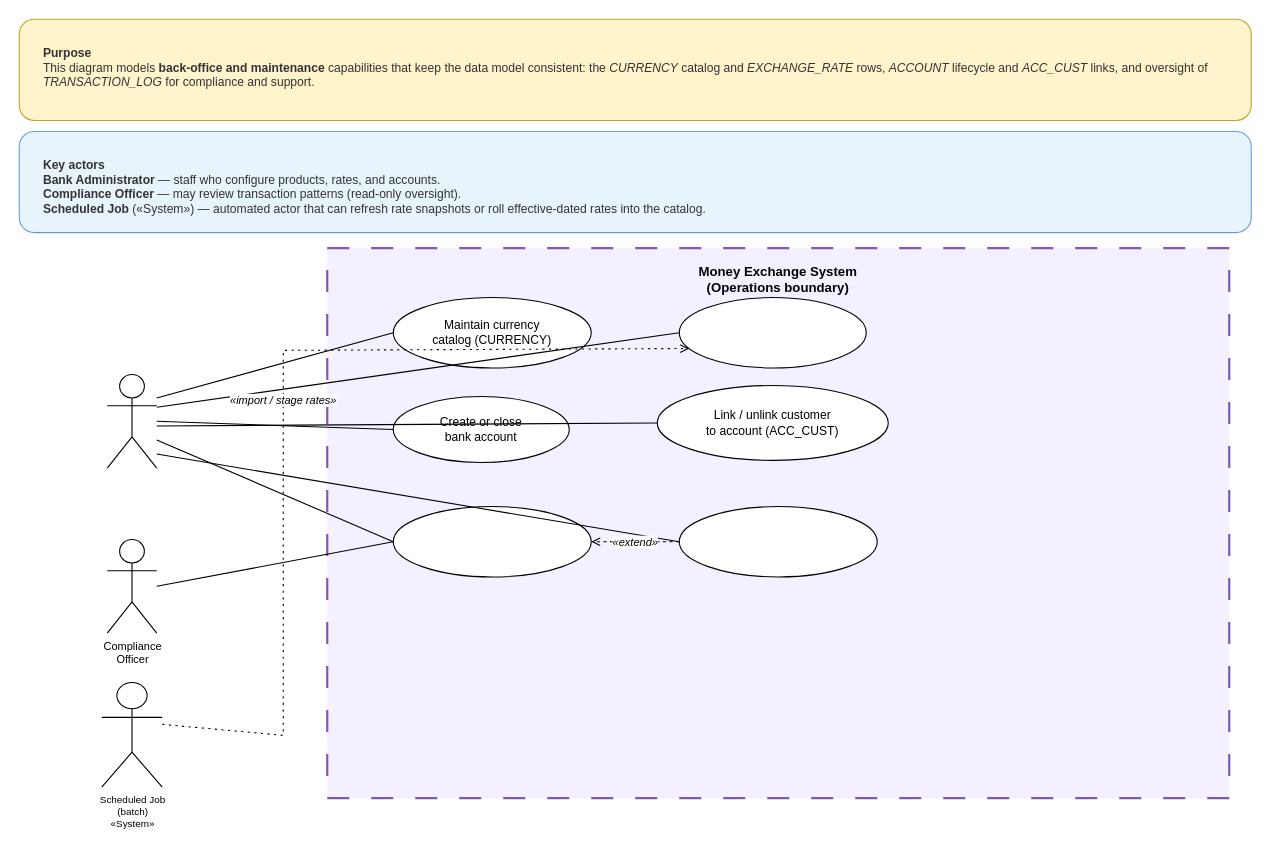
This 1271x849 diagram has some shape labels left out. Each missing label, with the centre of its shape:
"Bank Administrator" goes at (131,420).
"Correct erroneous transaction record" goes at (777,541).
"Publish / update exchange rates" goes at (772,332).
"Search and export transaction log" goes at (491,541).
